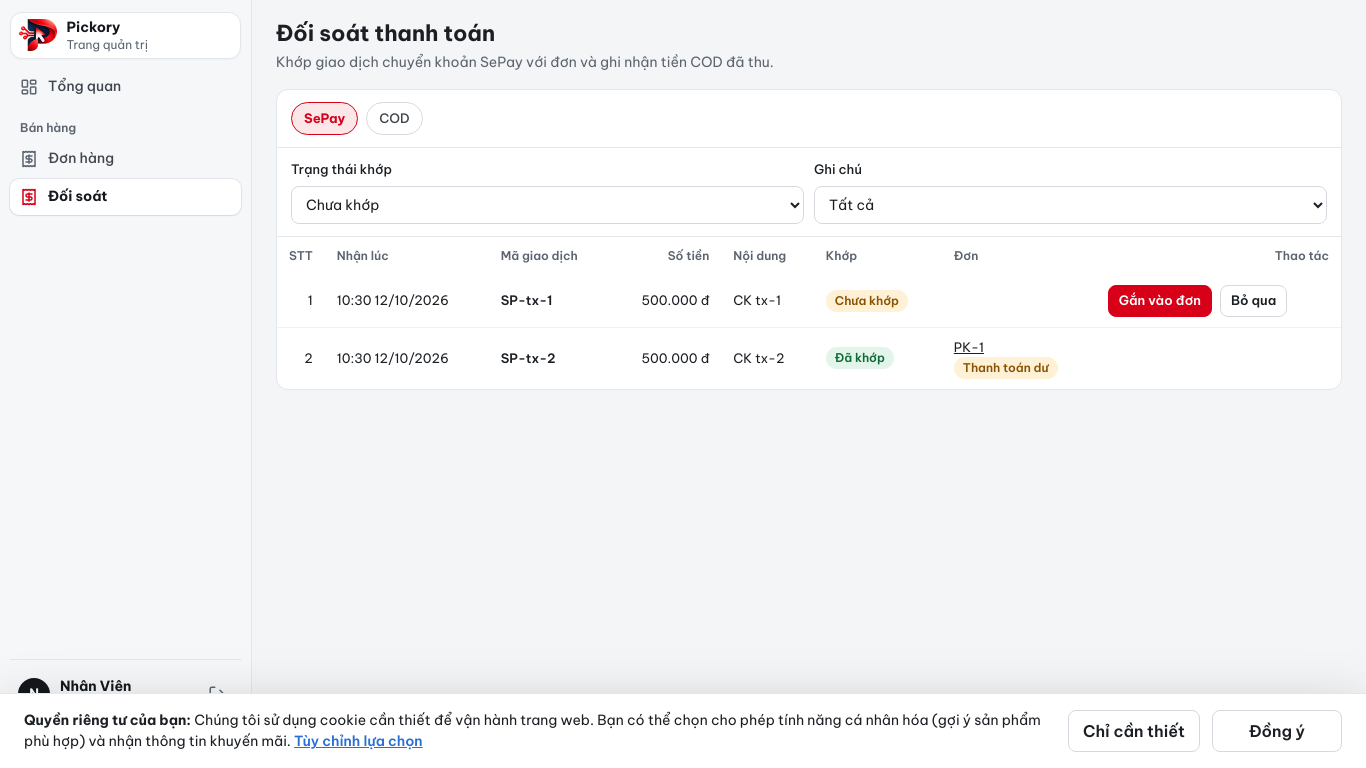
Test case: màn đối soát: tab SePay › nút Gắn tắt khi chưa tìm đơn
Step 1. Click the button "Gắn vào đơn" → click(1160, 300), box [1108,284,1212,316]
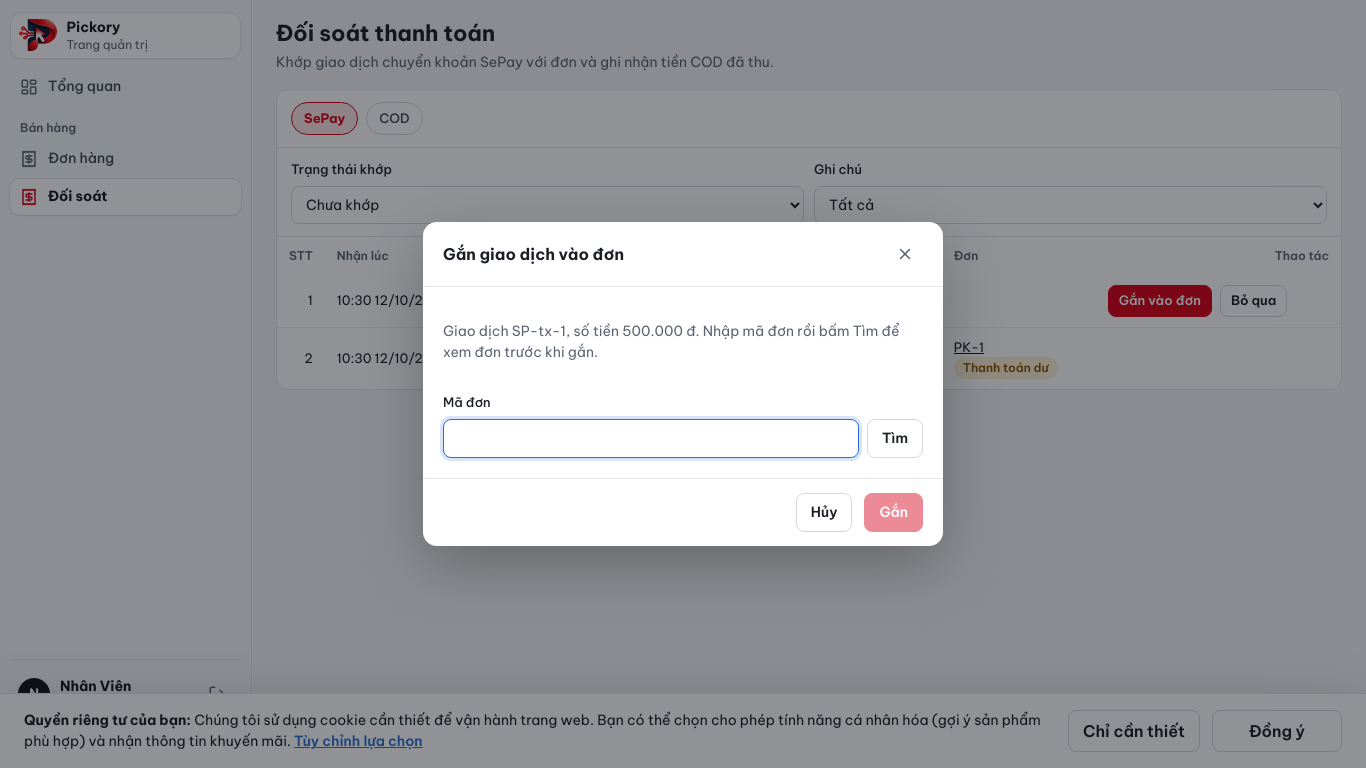
Now the button "Gắn" is disabled, box [864,493,923,532]
